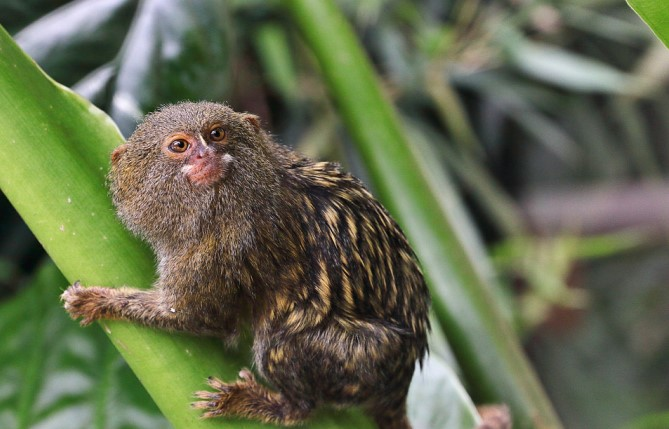PygmyMarmoset: (120, 105, 421, 417)
